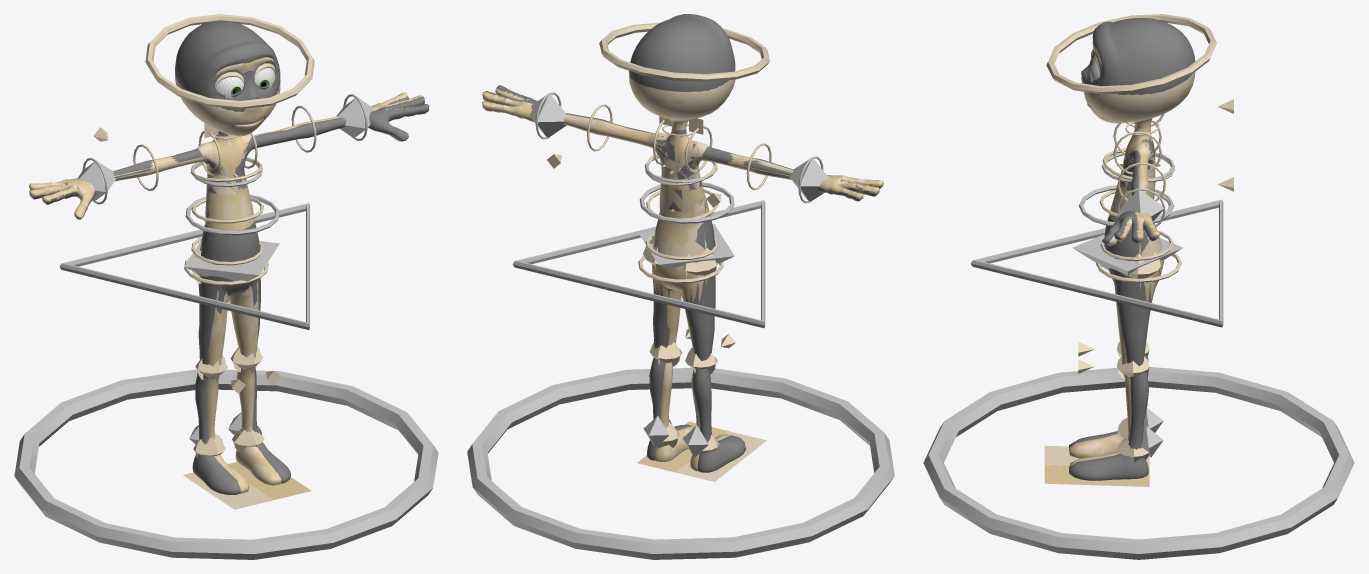
Rendered from RenObj.obj.
3 views of the same model, side by side, from view 1: azimuth 30°, elevation 25°; view 2: azimuth 150°, elevation 25°; view 3: azimuth 270°, elevation 25° (orthographic).
Parts seen in each view (by area): view 1: bish001_ac_C_master bish001_ac_base_motion bish001_ac_base_rig b, bish001_ac_base_rig bish001_all BISHOP bish001_ac_base_dnt bisho, default, bish001_ac_base_rig bish001_all Body_GEO Bishop_noXform BODY_RIG, bish001_ac_base_rig bish001_all BISHOP bish001_ac_base_dnt bish0, bish001_proxy_head, bish001_proxy_spine_b, bish001_proxy_Lupperleg, bish001_ac_base_motion bish001_ac_base_rig bish001_all bish001_a; view 2: bish001_ac_C_master bish001_ac_base_motion bish001_ac_base_rig b, bish001_ac_base_rig bish001_all BISHOP bish001_ac_base_dnt bisho, default, bish001_ac_base_rig bish001_all Body_GEO Bishop_noXform BODY_RIG, bish001_ac_base_rig bish001_all BISHOP bish001_ac_base_dnt bish0, bish001_proxy_head, bish001_proxy_spine_a, bish001_ac_base_motion bish001_ac_base_rig bish001_all bish001_a, bish001_proxy_spine_b; view 3: bish001_ac_C_master bish001_ac_base_motion bish001_ac_base_rig b, default, bish001_ac_base_rig bish001_all BISHOP bish001_ac_base_dnt bisho, bish001_ac_base_rig bish001_all BISHOP bish001_ac_base_dnt bish0, bish001_ac_base_rig bish001_all Body_GEO Bishop_noXform BODY_RIG, bish001_proxy_head, bish001_ac_base_motion bish001_ac_base_rig bish001_all bish001_a.
Boxes of the visible parts, x1,y1,x2,y2 form: bish001_ac_C_master bish001_ac_base_motion bish001_ac_base_rig b: (14, 98, 438, 559); bish001_ac_base_rig bish001_all BISHOP bish001_ac_base_dnt bisho: (29, 57, 429, 494); default: (82, 14, 367, 509); bish001_ac_base_rig bish001_all Body_GEO Bishop_noXform BODY_RIG: (29, 92, 422, 493); bish001_ac_base_rig bish001_all BISHOP bish001_ac_base_dnt bish0: (175, 20, 280, 111); bish001_proxy_head: (175, 57, 280, 136); bish001_proxy_spine_b: (205, 175, 250, 218); bish001_proxy_Lupperleg: (234, 281, 258, 357); bish001_ac_base_motion bish001_ac_base_rig bish001_all bish001_a: (189, 370, 280, 444); bish001_ac_C_master bish001_ac_base_motion bish001_ac_base_rig b: (467, 94, 894, 559); bish001_ac_base_rig bish001_all BISHOP bish001_ac_base_dnt bisho: (485, 85, 881, 472); default: (535, 22, 823, 481); bish001_ac_base_rig bish001_all Body_GEO Bishop_noXform BODY_RIG: (482, 89, 883, 471); bish001_ac_base_rig bish001_all BISHOP bish001_ac_base_dnt bish0: (629, 14, 735, 130); bish001_proxy_head: (629, 70, 735, 122); bish001_proxy_spine_a: (654, 201, 706, 256); bish001_ac_base_motion bish001_ac_base_rig bish001_all bish001_a: (643, 329, 735, 457); bish001_proxy_spine_b: (659, 166, 704, 211); bish001_ac_C_master bish001_ac_base_motion bish001_ac_base_rig b: (923, 152, 1354, 559); default: (1044, 14, 1216, 486); bish001_ac_base_rig bish001_all BISHOP bish001_ac_base_dnt bisho: (1069, 41, 1192, 480); bish001_ac_base_rig bish001_all BISHOP bish001_ac_base_dnt bish0: (1081, 18, 1195, 96); bish001_ac_base_rig bish001_all Body_GEO Bishop_noXform BODY_RIG: (1069, 127, 1164, 468); bish001_proxy_head: (1081, 50, 1195, 123); bish001_ac_base_motion bish001_ac_base_rig bish001_all bish001_a: (1078, 342, 1163, 457).
Size of the model in its own units: 27.89 by 30.13 by 26.25.
